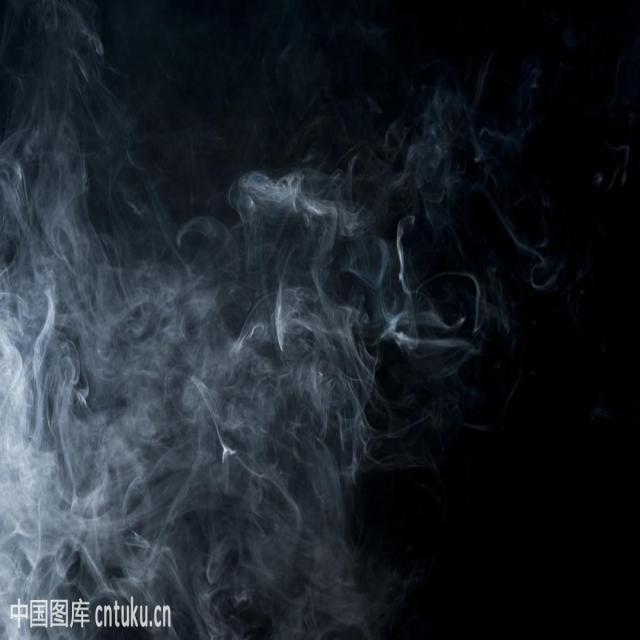Smoke: (0, 0, 587, 591)
